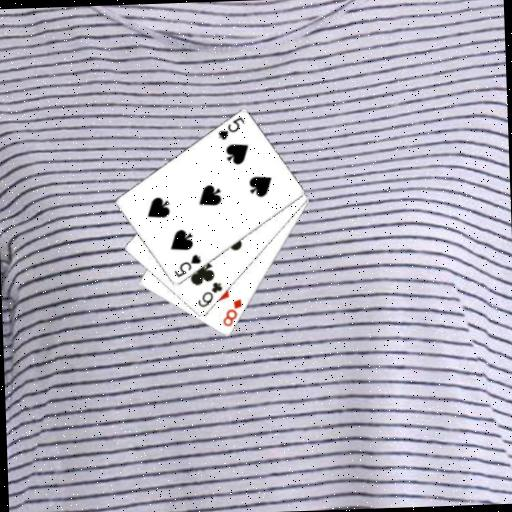5S: (170, 251, 203, 279), (214, 114, 247, 142)
6C: (194, 279, 225, 309)
8D: (219, 295, 245, 328)
